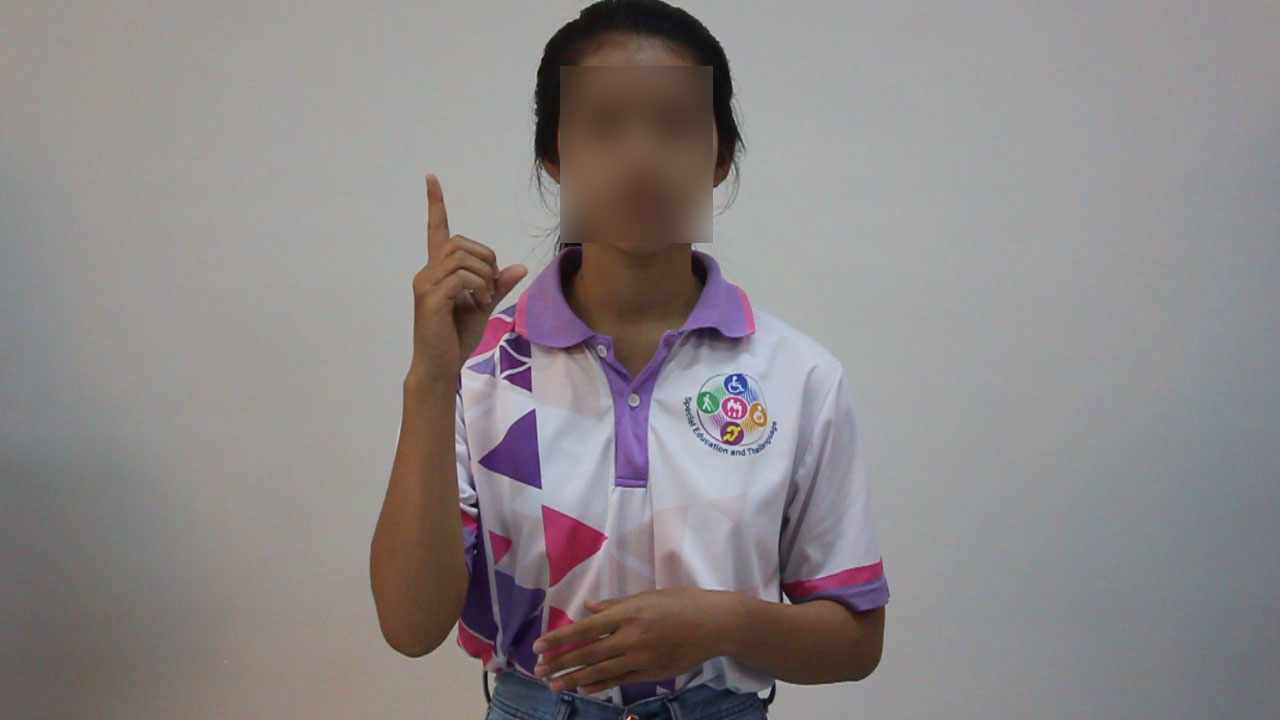dor: (402, 164, 538, 381)
